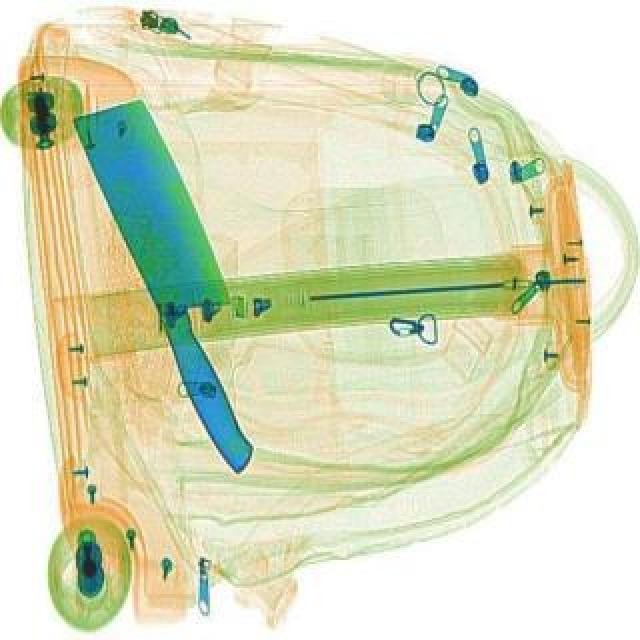knife: (68, 96, 294, 486)
